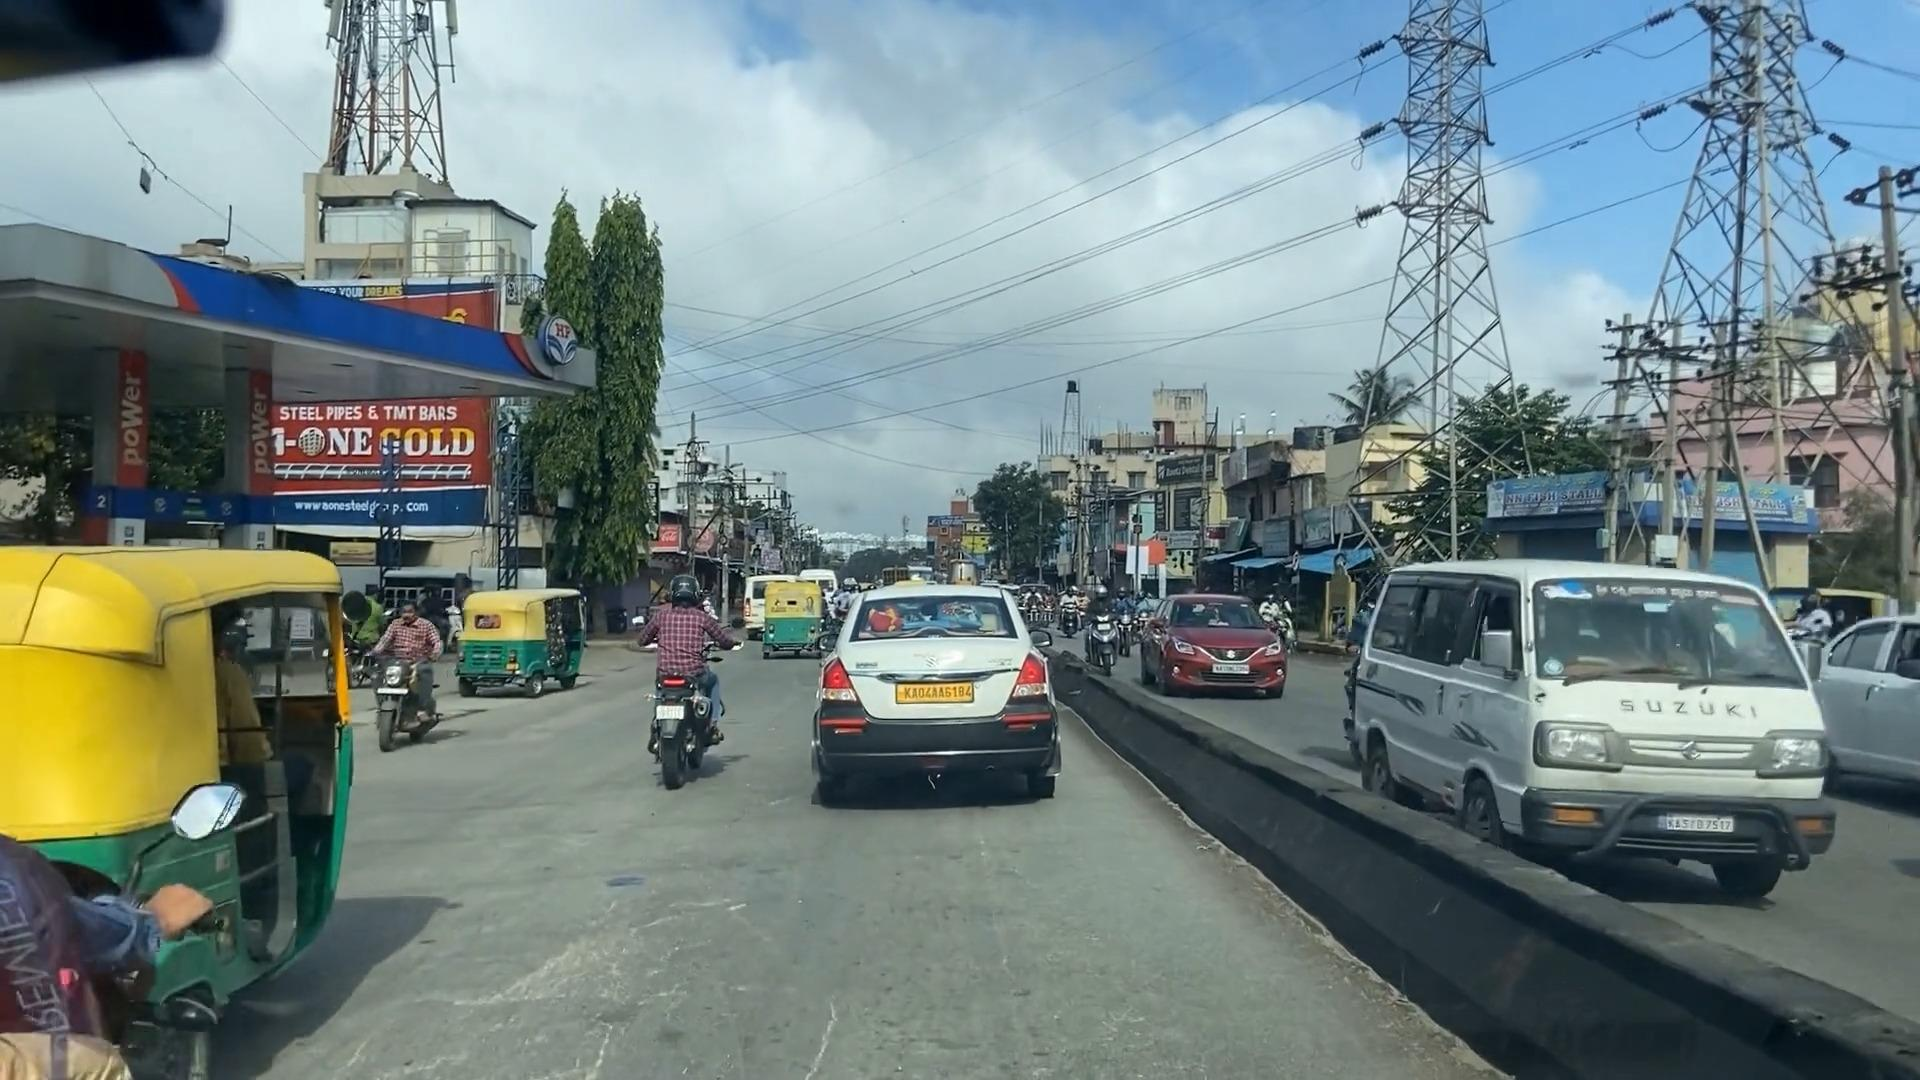LMV: (8, 551, 345, 1036), (645, 578, 723, 785)
RoadDamages: (381, 903, 862, 1080), (822, 595, 1067, 803)
